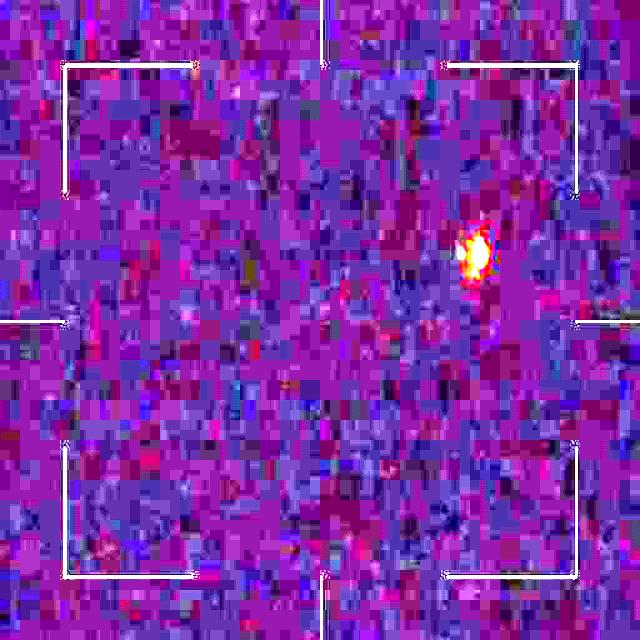bird: (458, 232, 488, 284)
